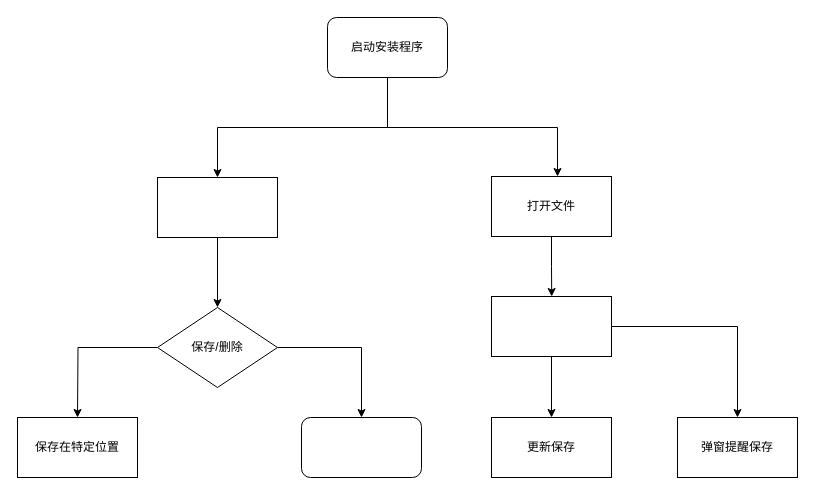
Image size: 815x495. Some labels were removed from this diagram. Here are the shapes that lost their labels. From the top down, the box of each, then its label:
(156, 176, 278, 238): 直接编写
(490, 296, 612, 356): 写入文档
(300, 416, 422, 478): 移除文档
